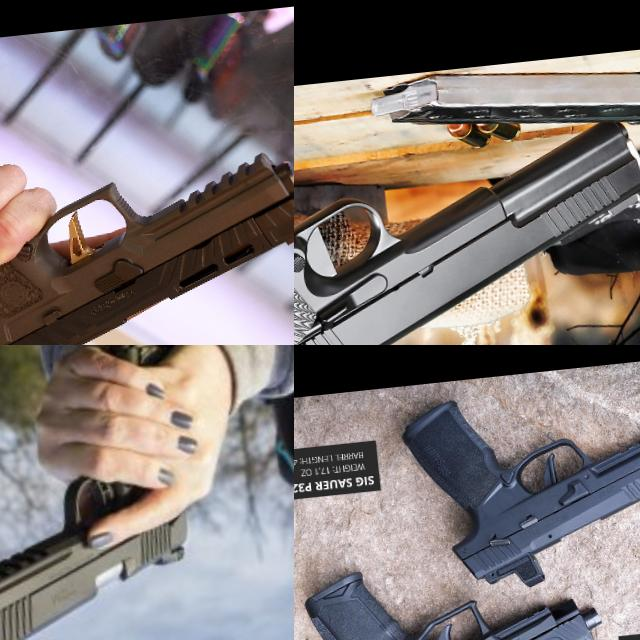handgun: (294, 61, 640, 345), (0, 74, 294, 345), (394, 373, 640, 603), (0, 458, 208, 640), (296, 542, 612, 640)
